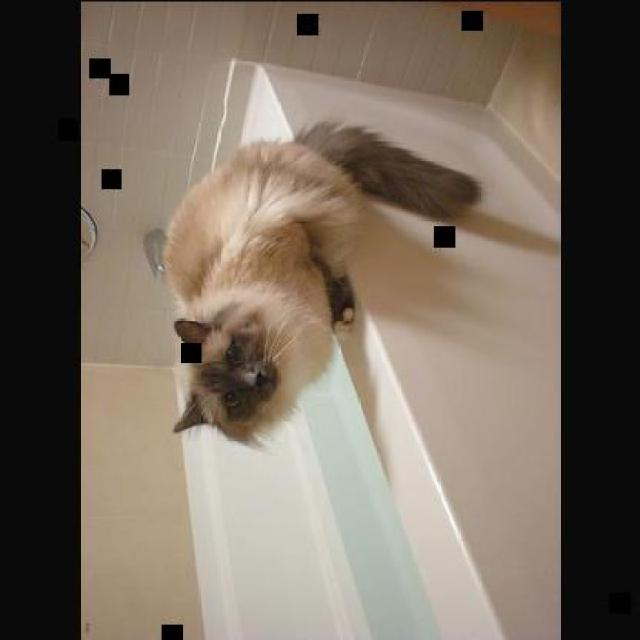unauthorized: (160, 117, 482, 449)
